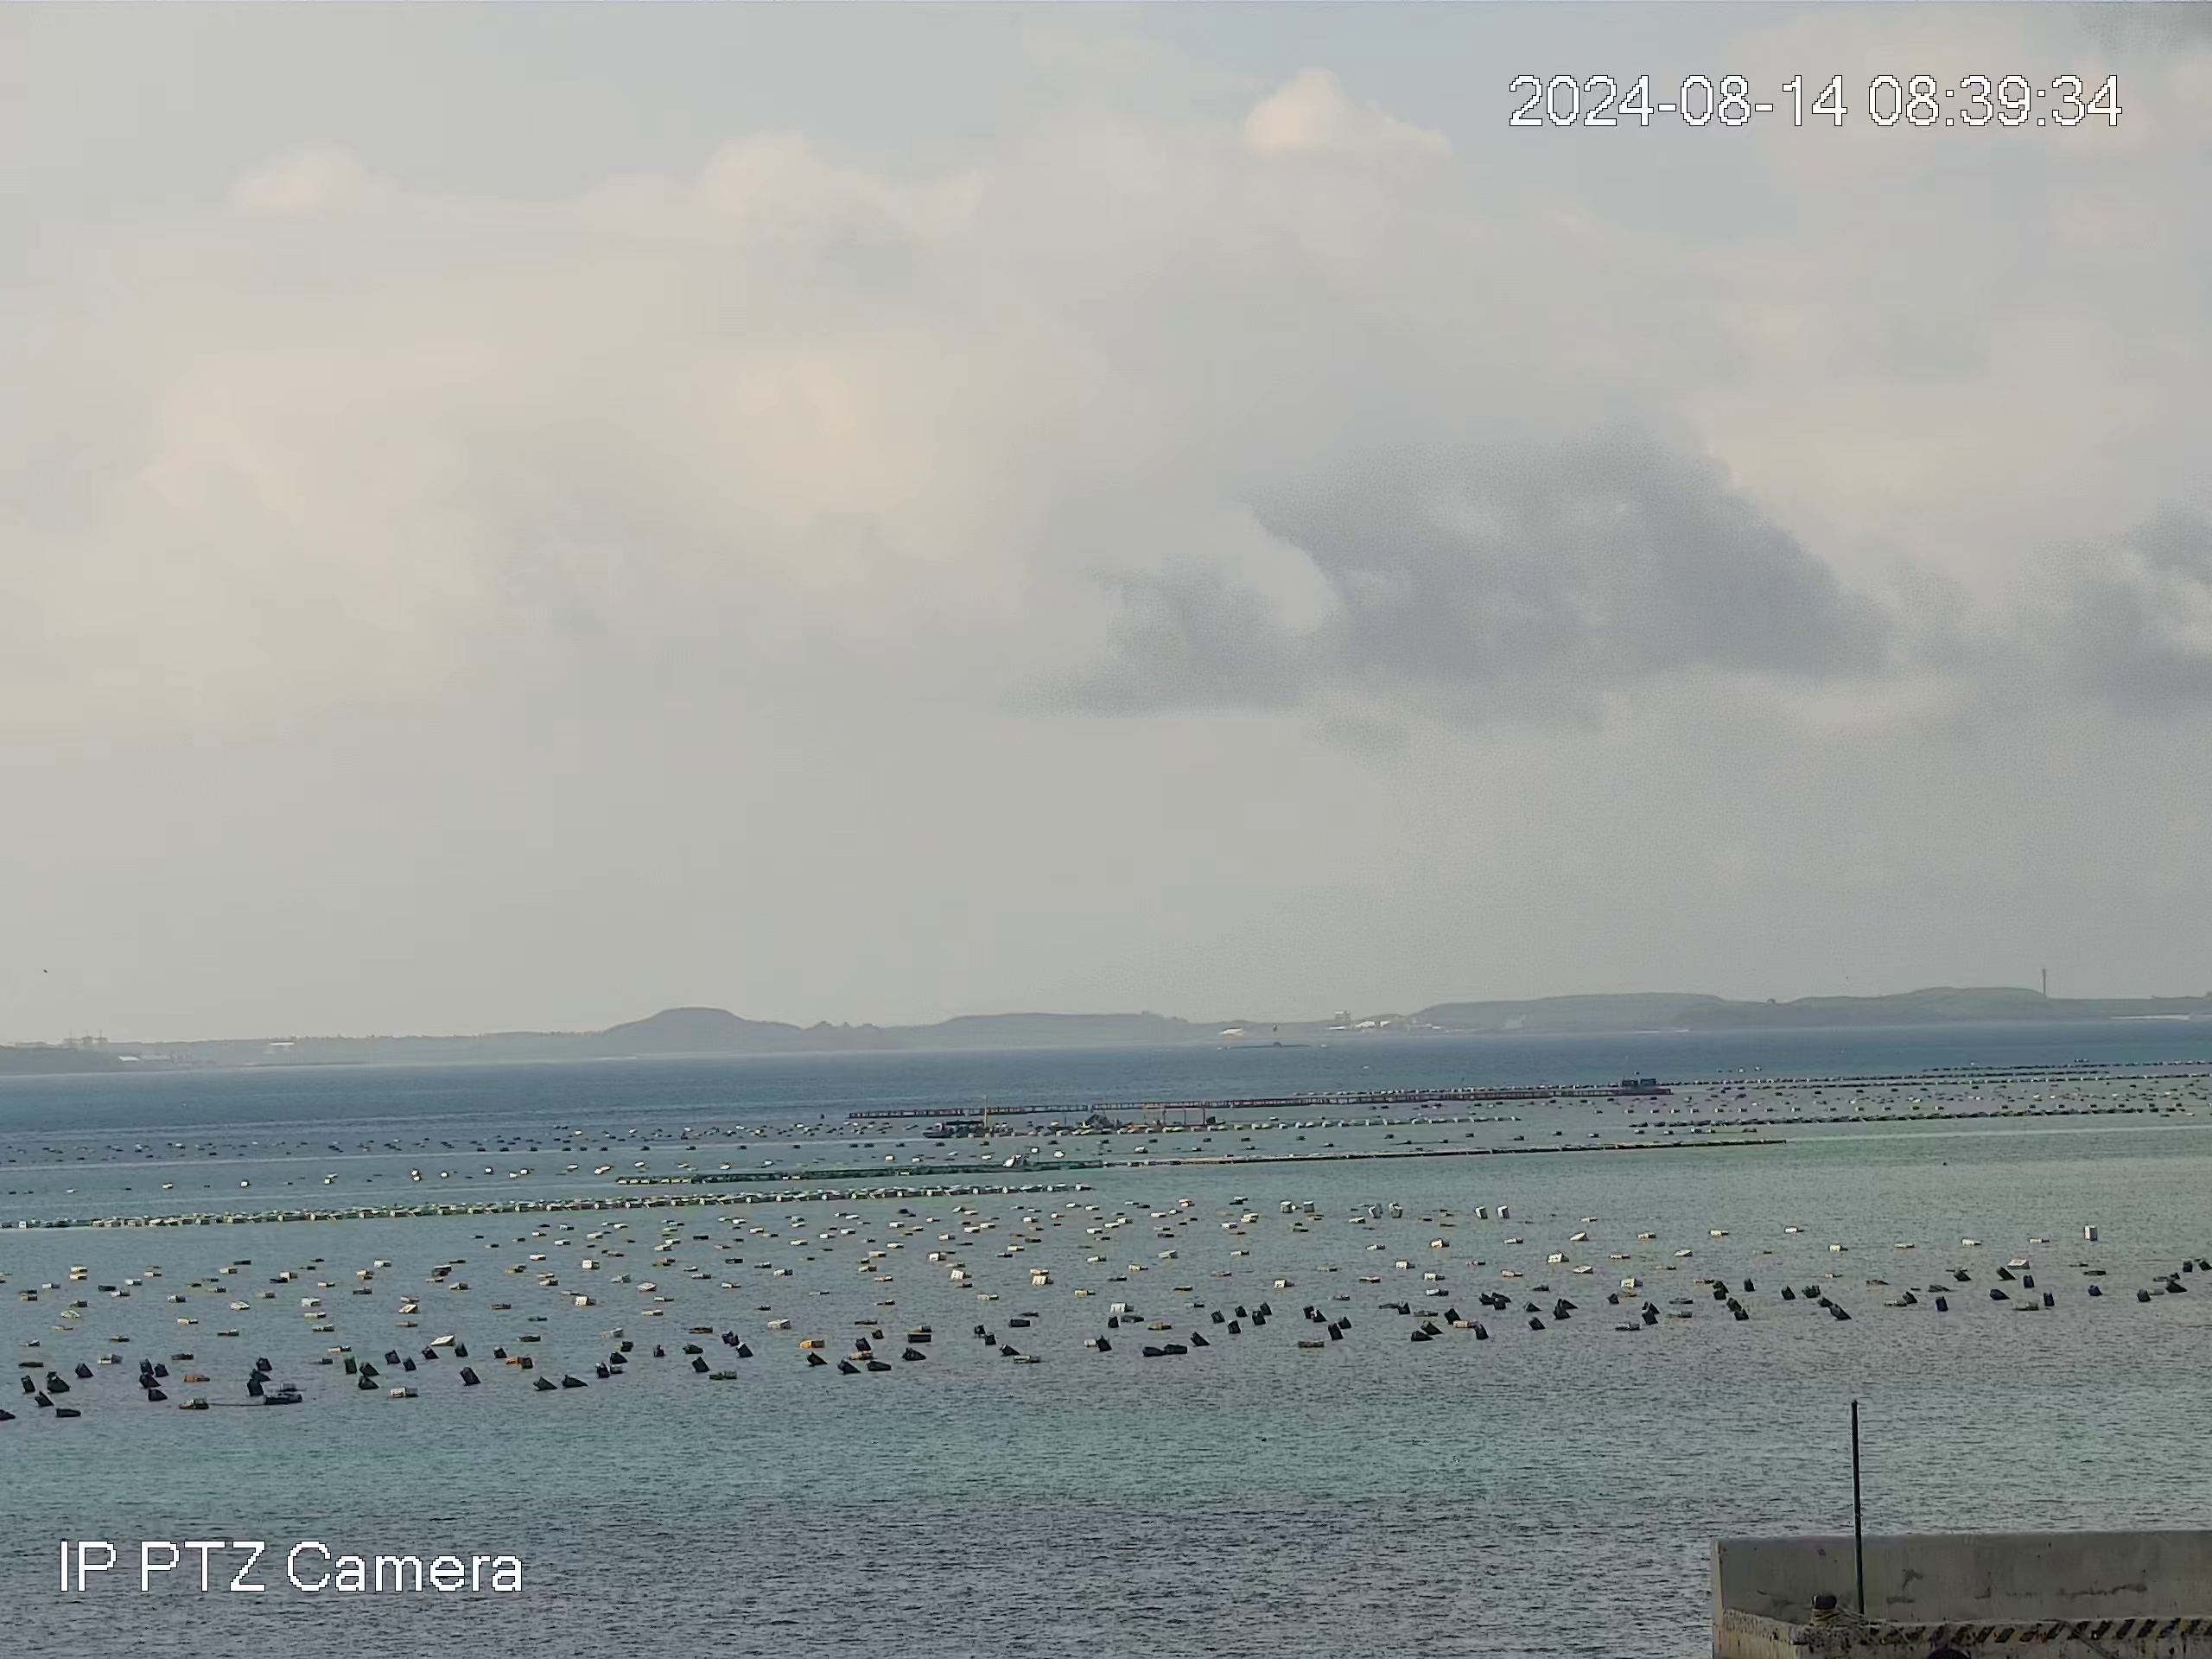boat: (923, 1121, 988, 1138)
